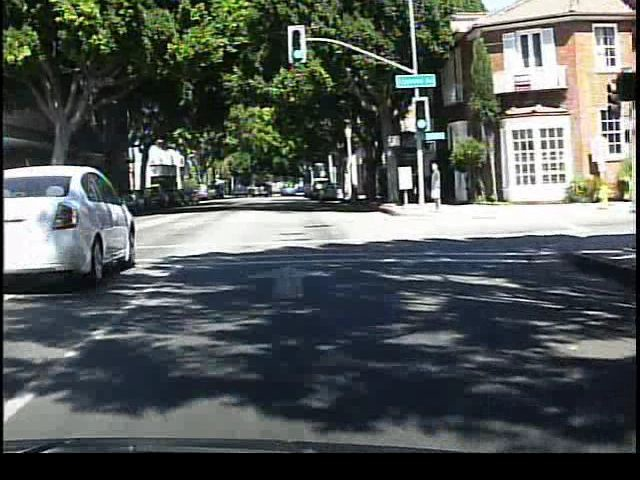person: (426, 158, 447, 216)
